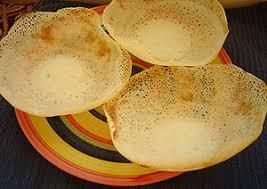Hoppers: (4, 5, 265, 172)
